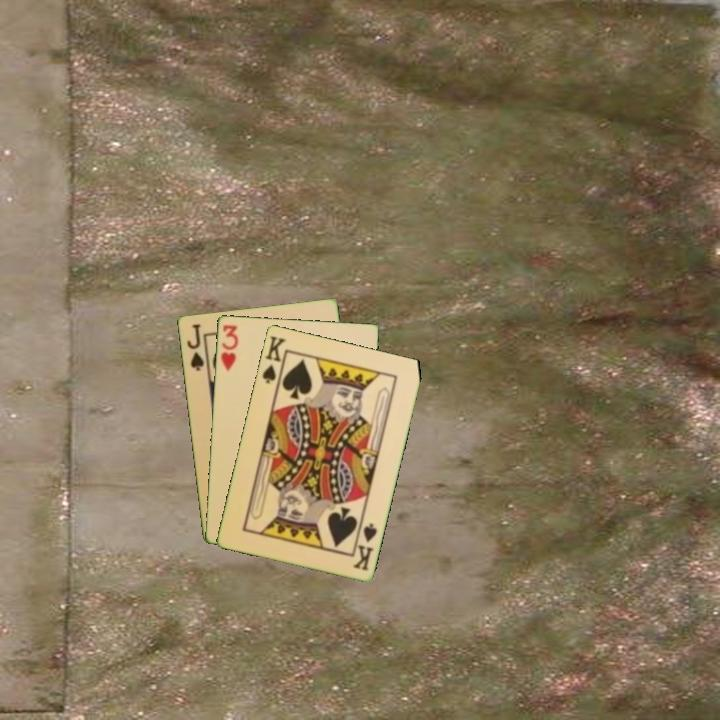3h: (217, 321, 241, 373)
Js: (183, 320, 207, 374)
Ks: (259, 332, 289, 389), (349, 519, 380, 573)
